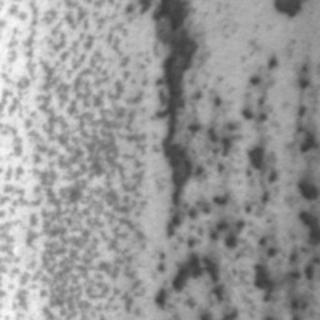patches: (152, 0, 195, 202)
pitted_surface: (1, 1, 148, 316), (181, 56, 317, 256)
